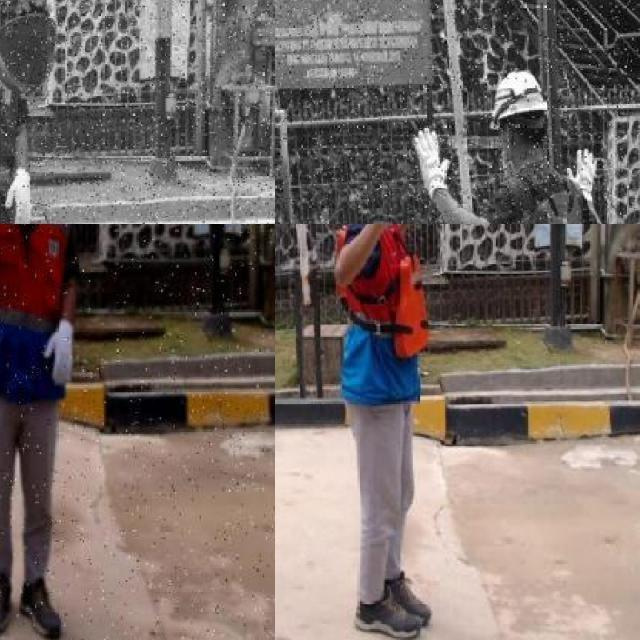apron: (410, 126, 450, 197), (40, 316, 78, 390), (564, 148, 600, 202), (3, 166, 36, 224)
